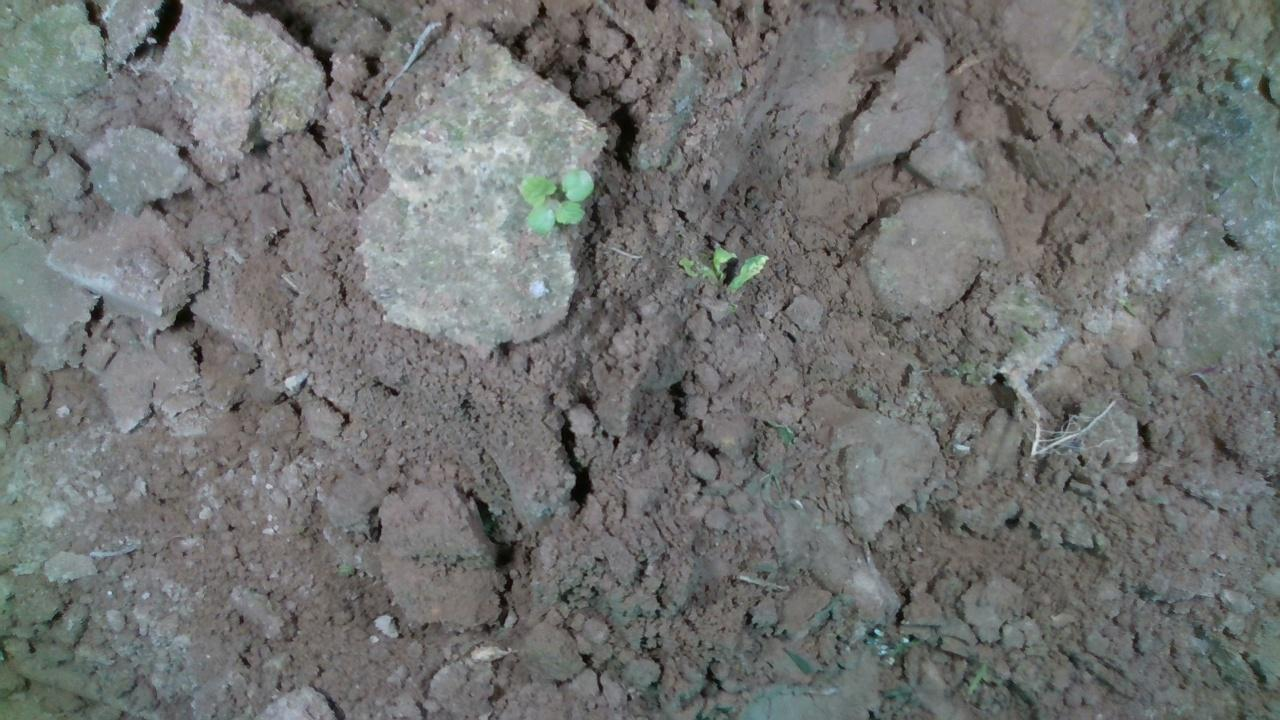weed: (517, 167, 591, 235)
